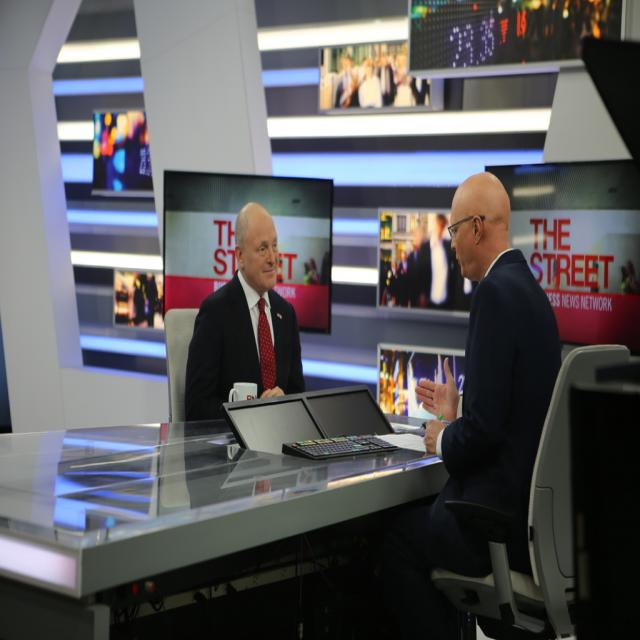chair: (432, 342, 636, 635), (164, 306, 199, 422)
desk: (2, 414, 446, 633)
person: (379, 172, 563, 632), (183, 200, 308, 422)
tv: (165, 171, 333, 344), (91, 109, 152, 194)
